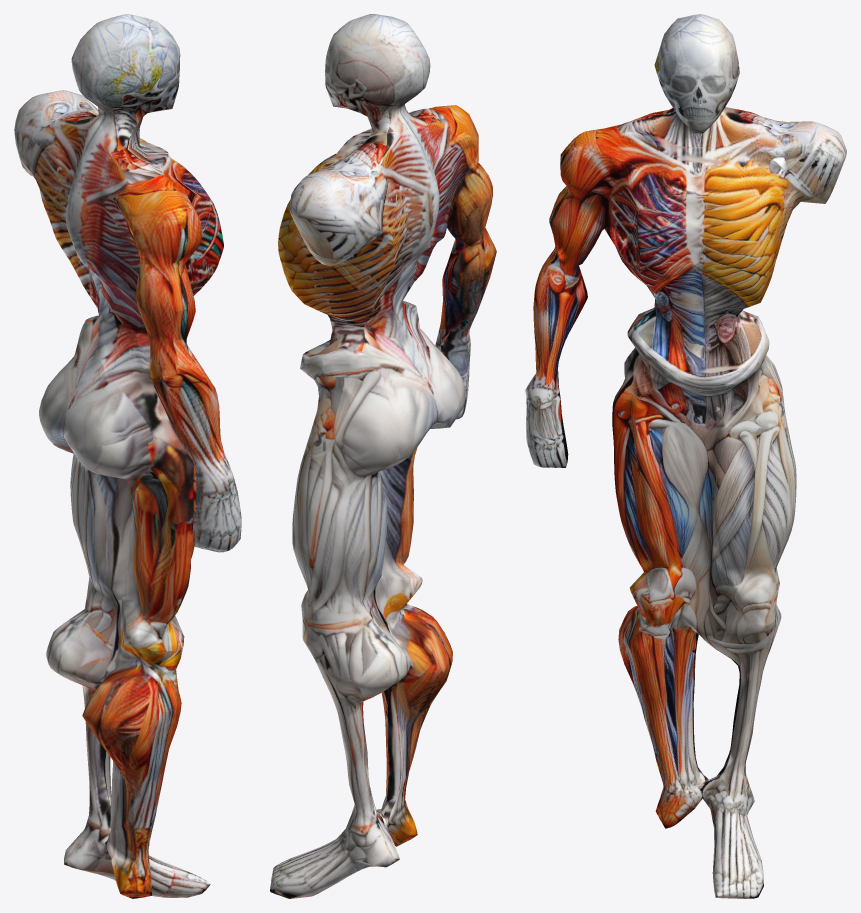
The model's file is humanbody.glb.
3 renders of one model, left to right at view 1: azimuth 30°, elevation 25°; view 2: azimuth 150°, elevation 25°; view 3: azimuth 270°, elevation 25°, orthographic. The views are drawn at different scales.
Bounding box in the file's own units: 0.2216 × 1.2 × 0.4137.
Materials: 1 (1 with a texture image).
